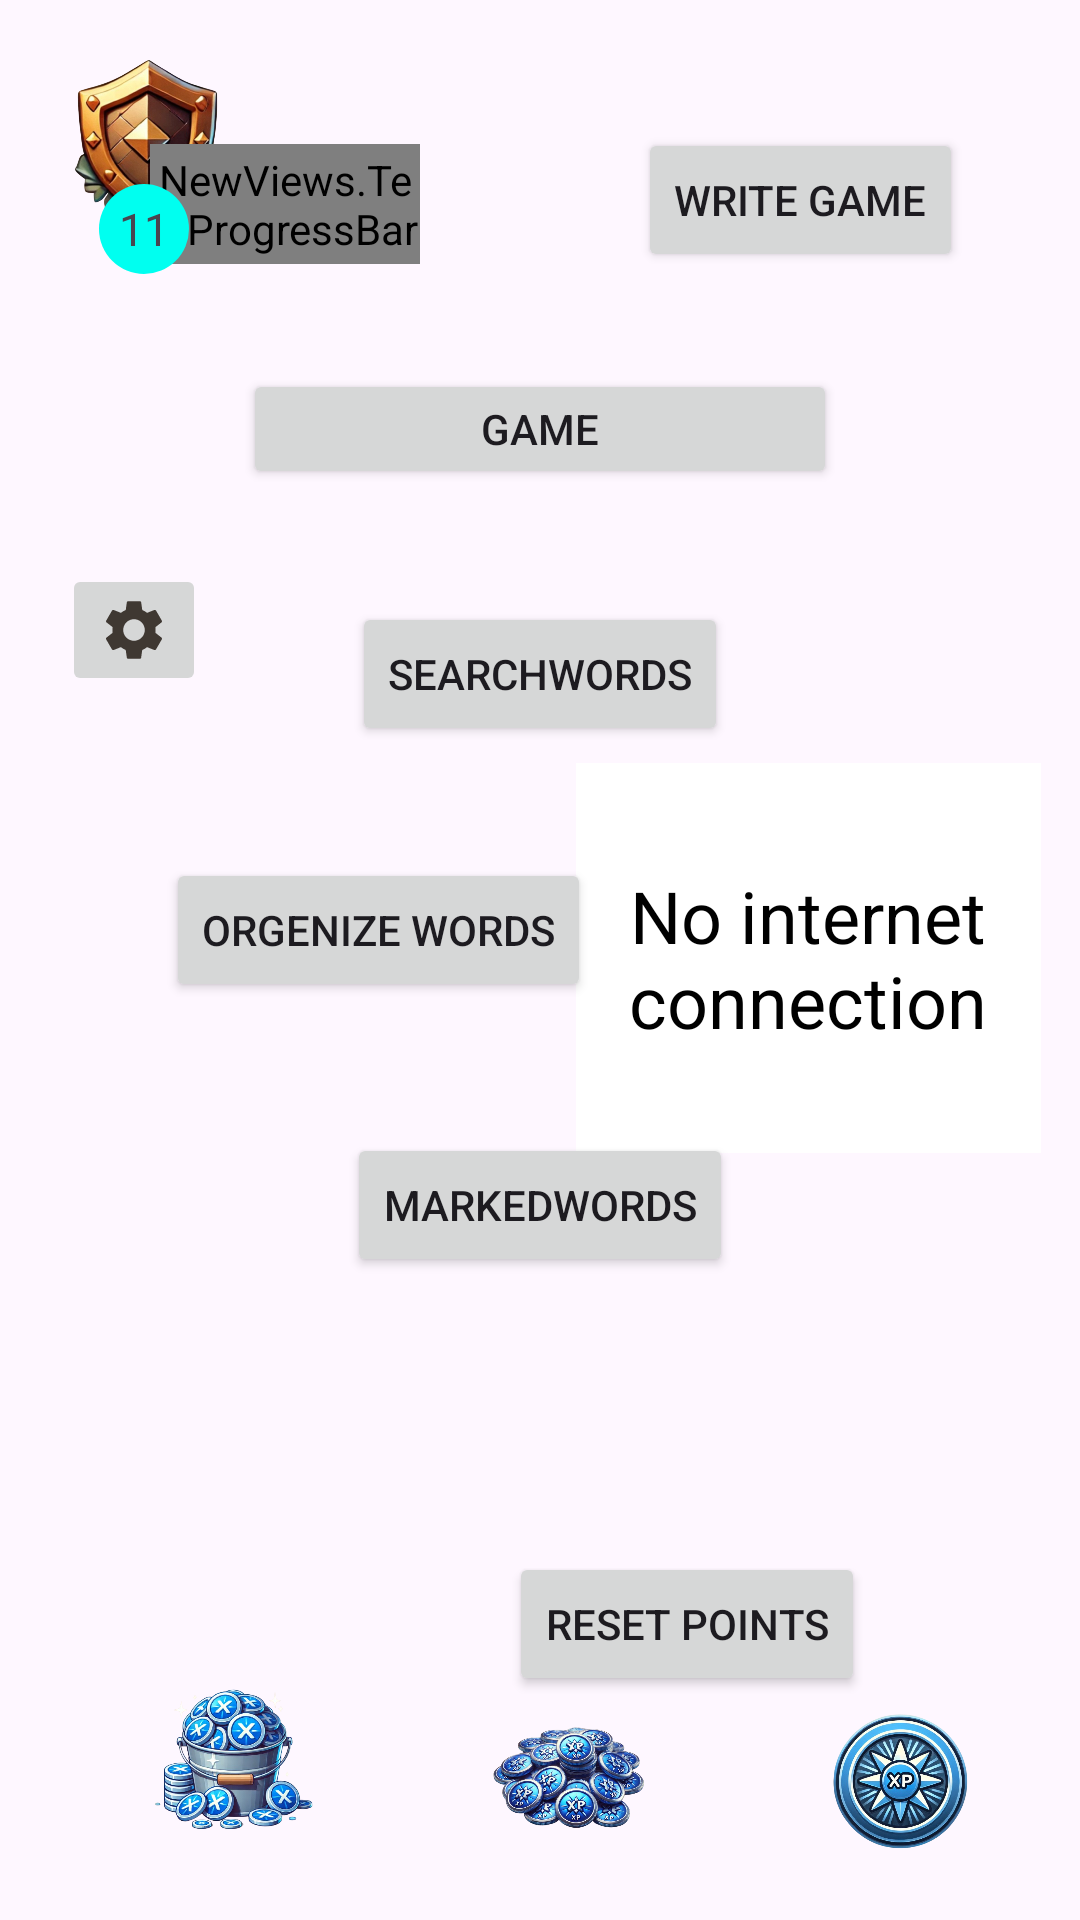

Point at icon controls on the screen. Image size 1080w x 1920h, points as [x,y].
backet of coins: [234,1759]
handful coins: [568,1777]
point coin: [900,1781]
settings: [134,630]
